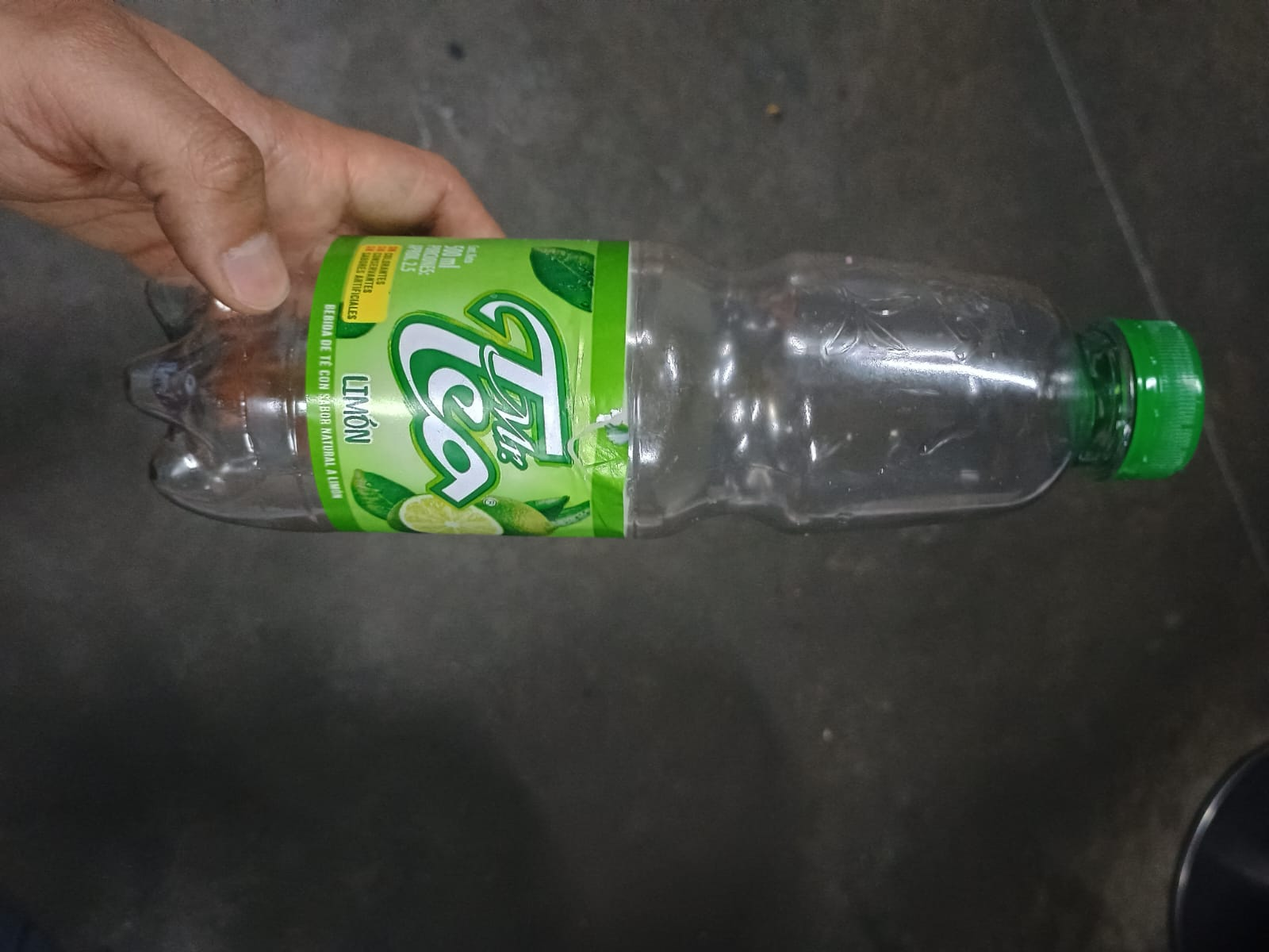Plastico: (133, 234, 1204, 539)
